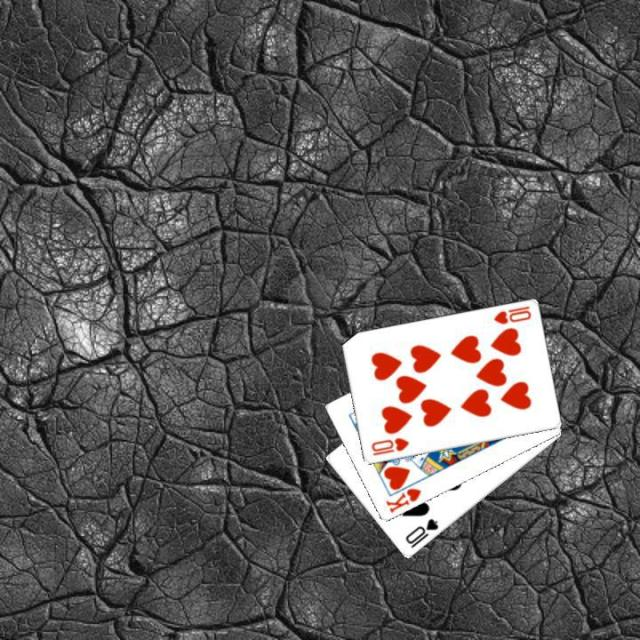10H: (367, 434, 411, 458), (489, 302, 532, 326)
10S: (401, 515, 440, 550)
KH: (381, 484, 423, 516)
